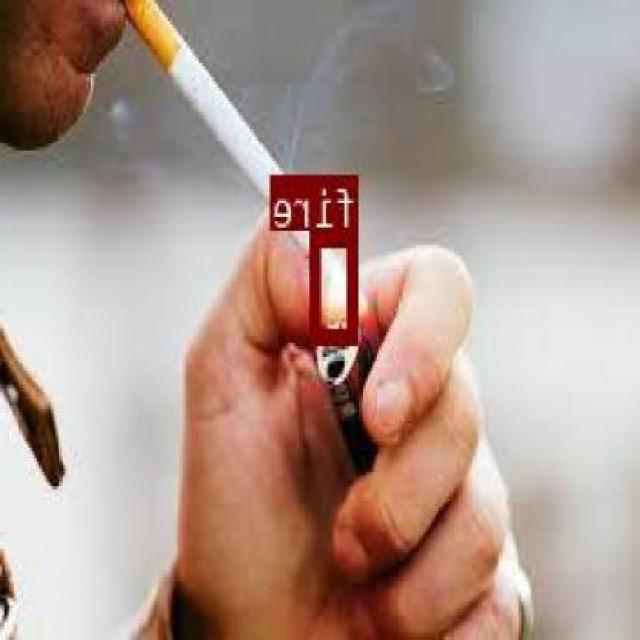fire: (313, 230, 359, 339)
